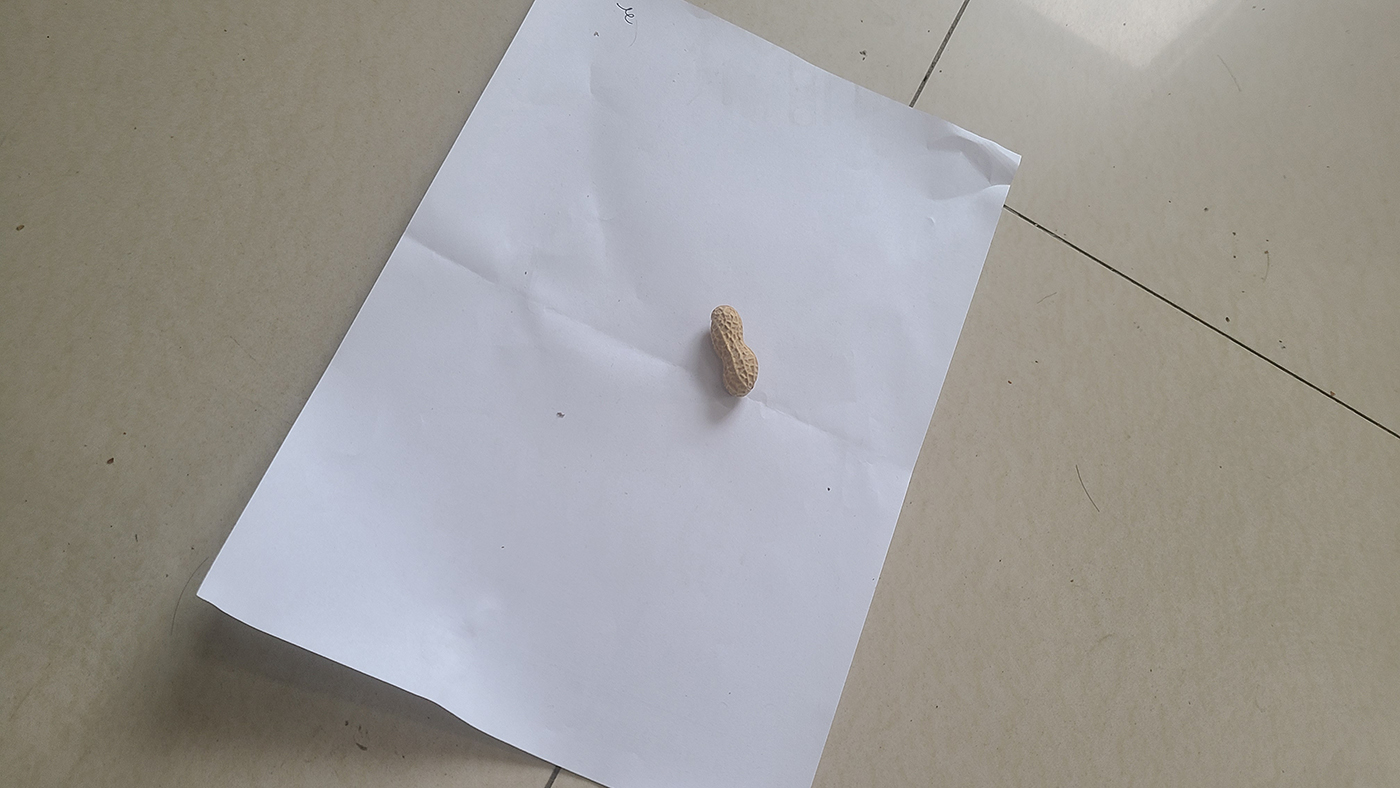h: (710, 305, 758, 397)
